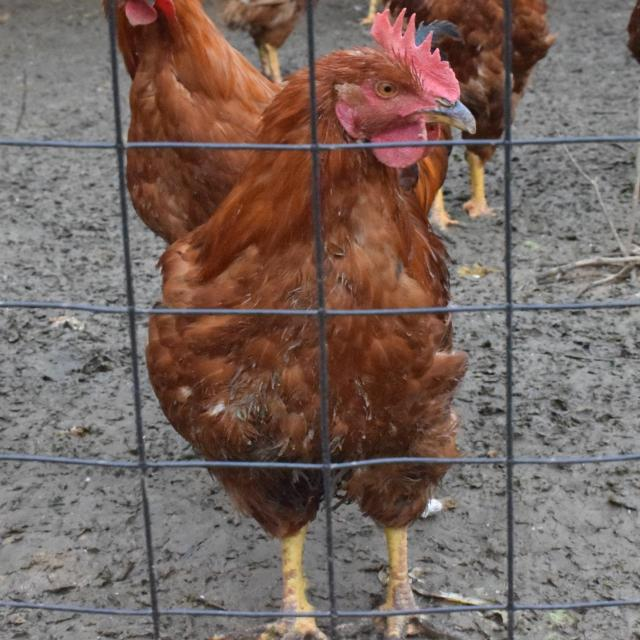cook: (146, 315, 321, 462), (160, 151, 317, 308), (319, 146, 449, 309), (316, 12, 474, 144), (326, 314, 466, 462), (335, 464, 447, 609), (214, 469, 323, 612), (257, 70, 310, 144)
